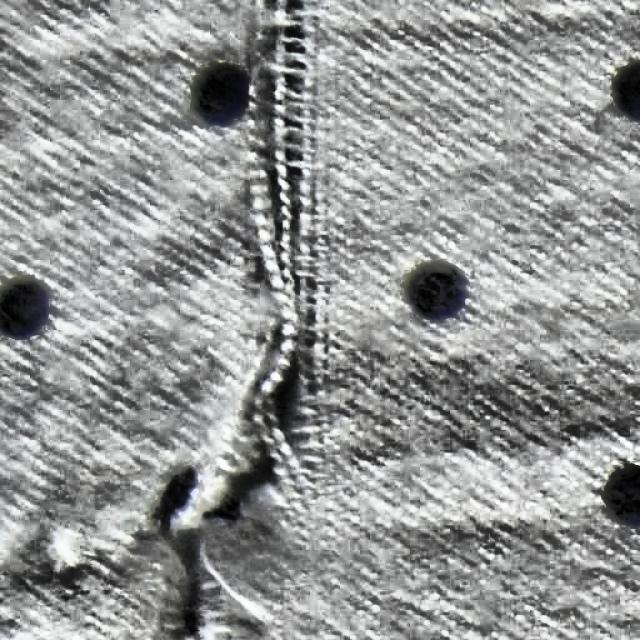Stitch: (138, 1, 340, 639)
